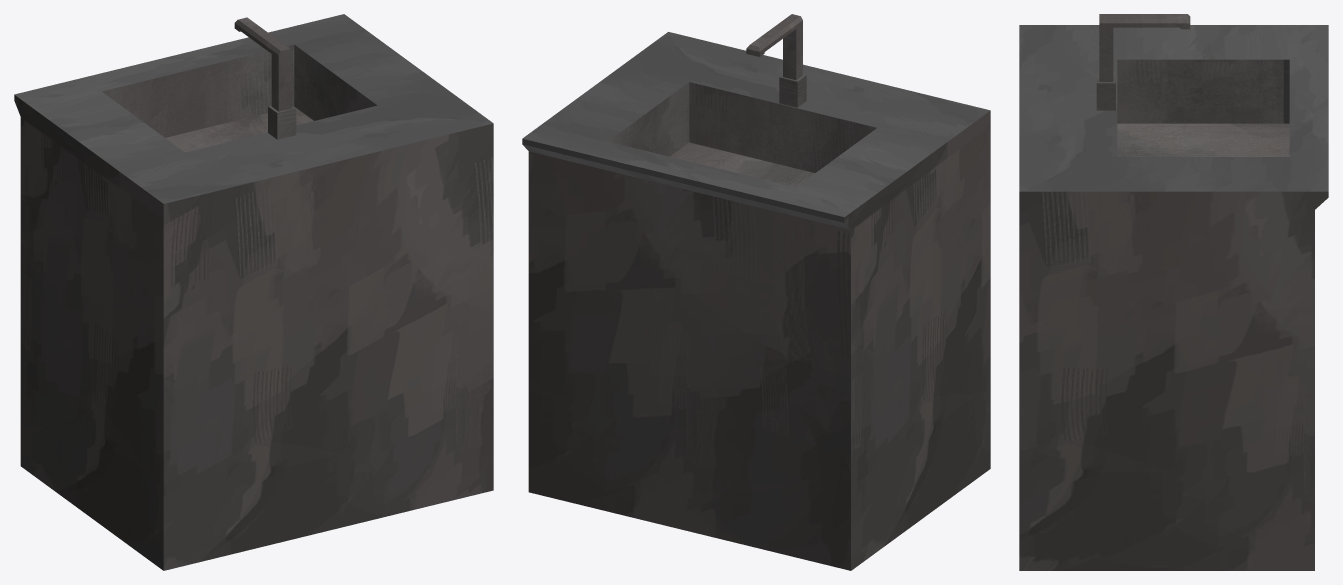
Rendered from M-Sink.fbx.
The picture shows the model from 3 angles, left to right: view 1: azimuth 30°, elevation 25°; view 2: azimuth 150°, elevation 25°; view 3: azimuth 270°, elevation 25°; orthographic projection. The views are drawn at different scales.
Visible parts, largest first — view 1: Cube; view 2: Cube; view 3: Cube.
Part boxes in pixels (x1,y1,x2,y2): Cube: [14, 14, 493, 570]; Cube: [522, 14, 990, 570]; Cube: [1019, 14, 1328, 570].
Size of the model in its own units: 80 by 62.79 by 105.
2 materials, 2 textured.
